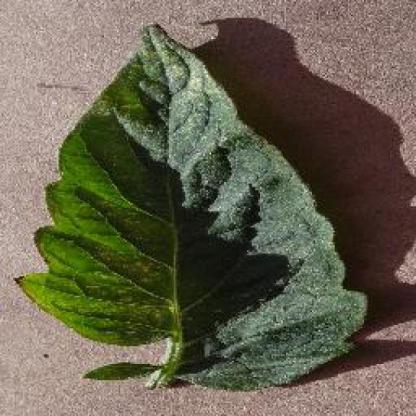Tomato_Spider_Mites: (16, 24, 367, 384)
